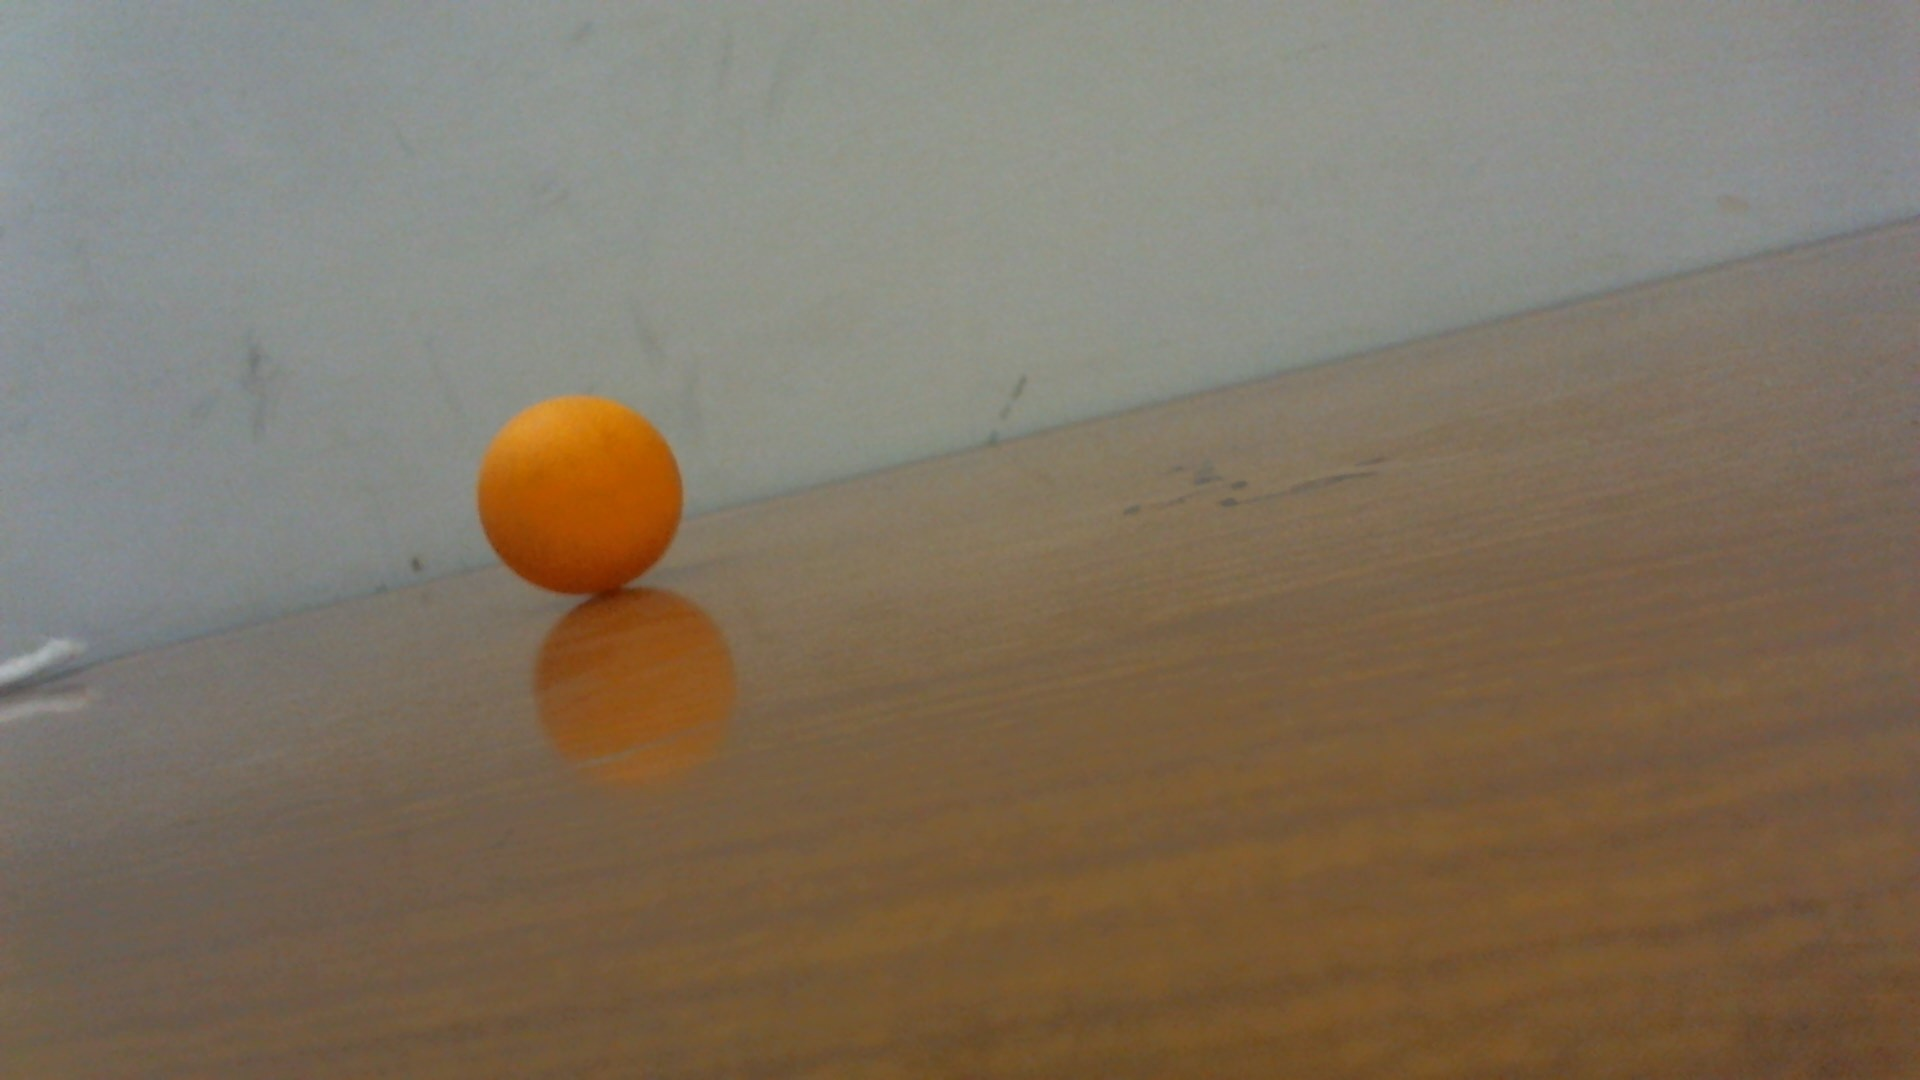ball: (475, 392, 683, 593)
